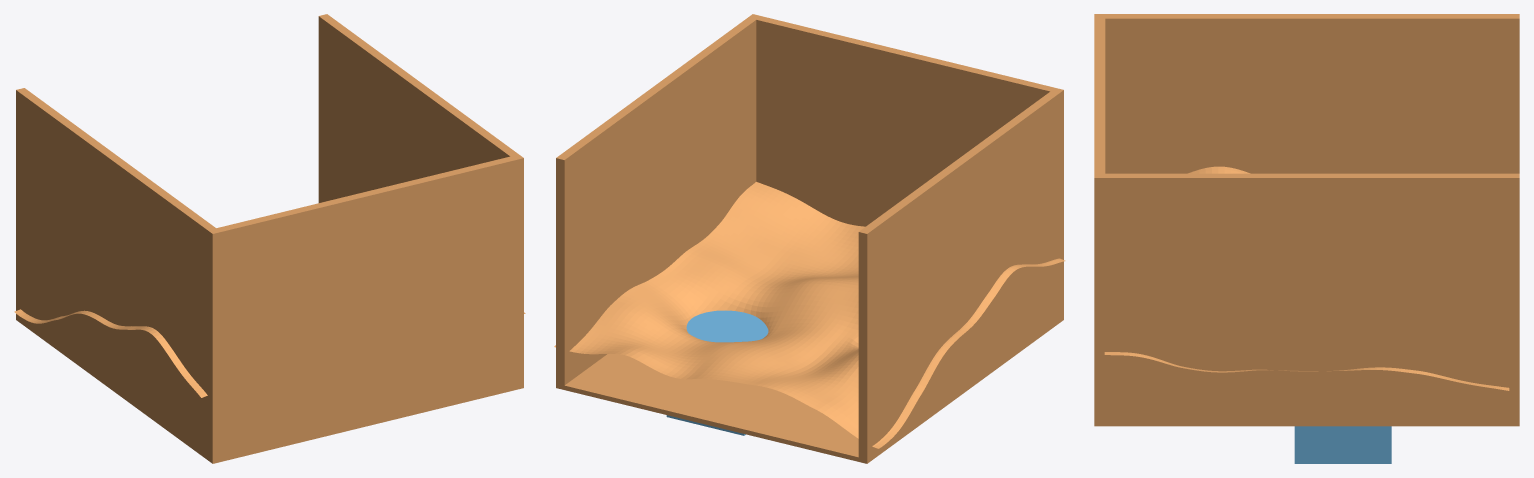
File: EgyptPuzzle3.fbx
The picture shows the model from 3 angles, left to right: view 1: azimuth 30°, elevation 25°; view 2: azimuth 150°, elevation 25°; view 3: azimuth 270°, elevation 25°; orthographic projection. The views are drawn at different scales.
Visible parts, largest first — view 1: Cube, Plane; view 2: Cube, Plane, Cube.001; view 3: Cube, Cube.001, Plane.
Boxes of the visible parts, <box> form: Cube: <box>16,14,523,463</box>; Plane: <box>14,309,525,397</box>; Cube: <box>556,14,1063,463</box>; Plane: <box>554,182,1065,448</box>; Cube.001: <box>666,310,768,435</box>; Cube: <box>1094,14,1519,426</box>; Cube.001: <box>1294,426,1391,463</box>; Plane: <box>1104,166,1509,390</box>.
Size of the model in its own units: 2686 by 2822 by 2292.
